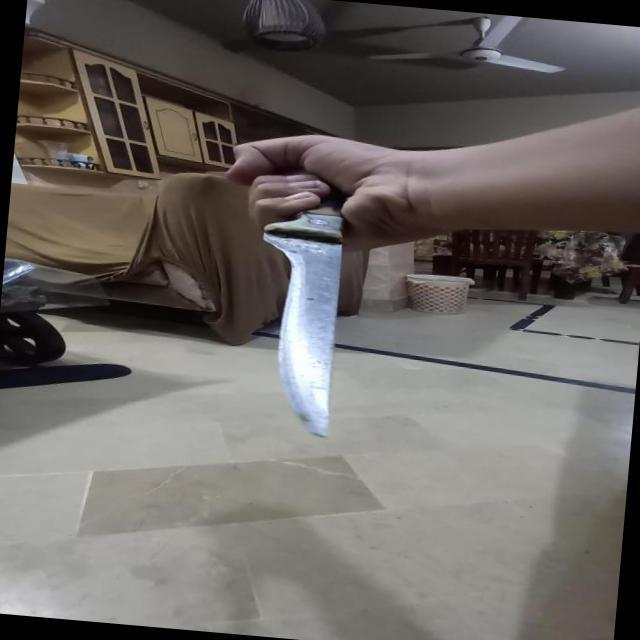Knife: (208, 132, 442, 454)
